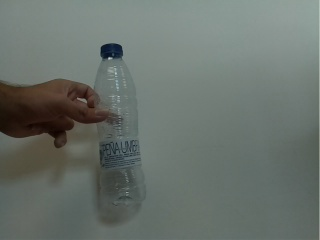botella plastico: (92, 42, 148, 210)
